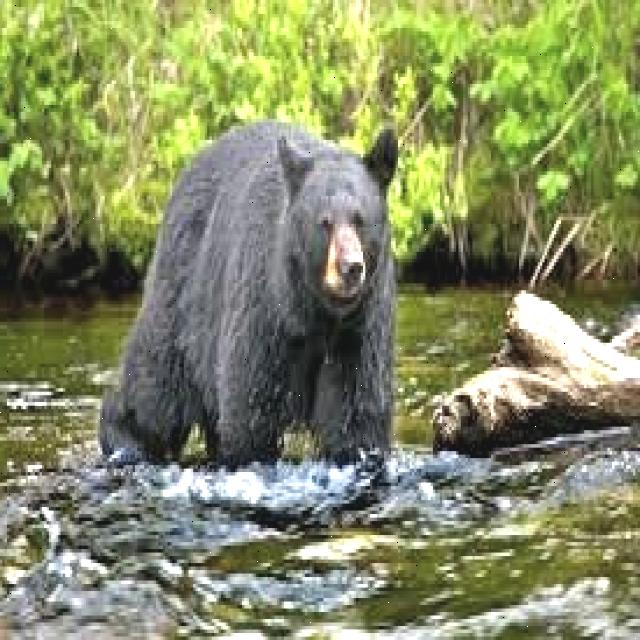bear: (129, 78, 402, 452)
